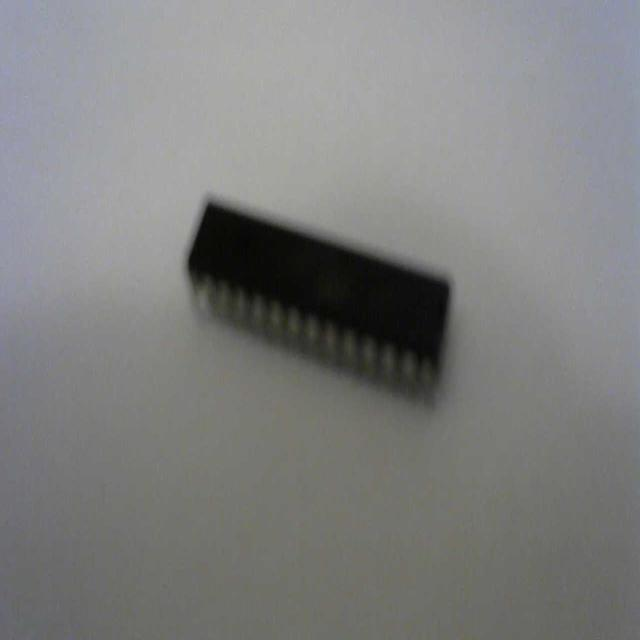atmega: (184, 189, 454, 409)
